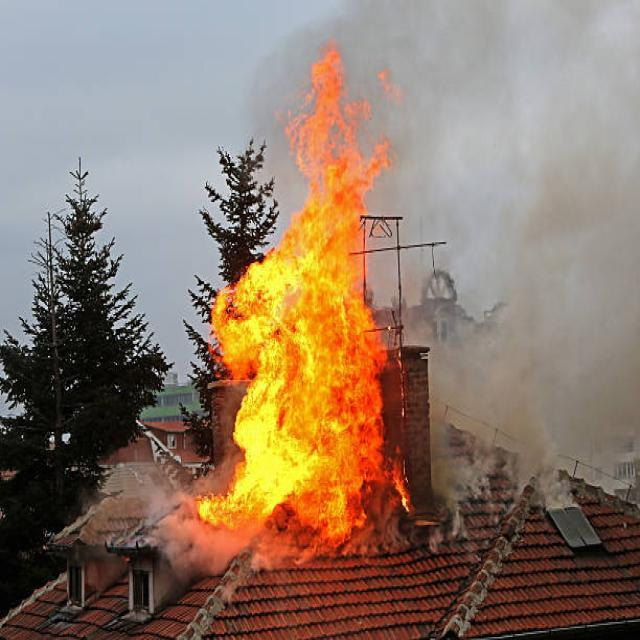Fire: (212, 40, 396, 531)
Smoke: (357, 0, 640, 516)
